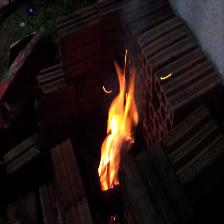fire: (91, 54, 155, 192)
